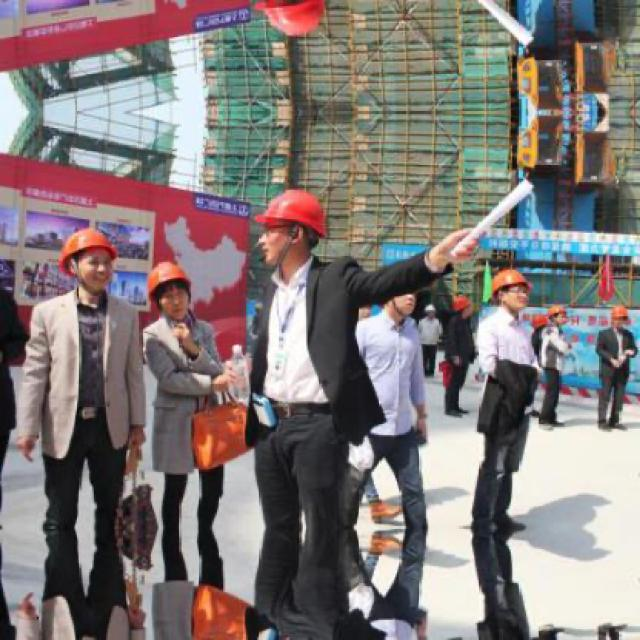helmet: (254, 187, 329, 268), (52, 227, 125, 293), (146, 261, 197, 327), (254, 0, 331, 40), (491, 268, 537, 308), (543, 302, 571, 327), (609, 302, 631, 332), (455, 295, 477, 316), (422, 304, 438, 321)
